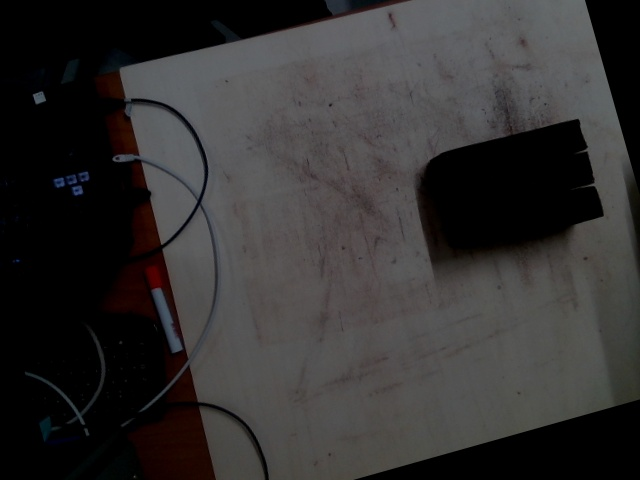brick-side: (444, 121, 583, 182), (450, 154, 589, 215), (461, 187, 600, 248)
